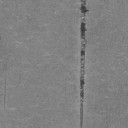slag inclusion: (80, 18, 87, 40), (80, 0, 89, 16), (80, 74, 84, 98), (80, 44, 86, 56), (80, 104, 82, 126)
